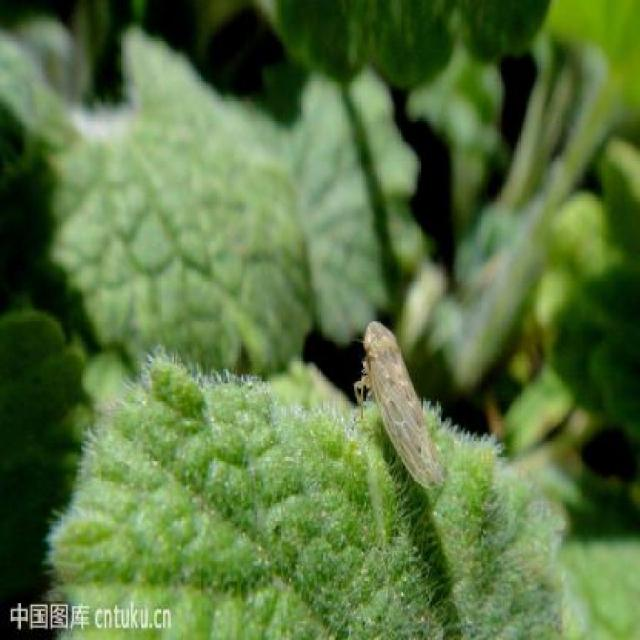green-leafhopper: (355, 320, 439, 498)
